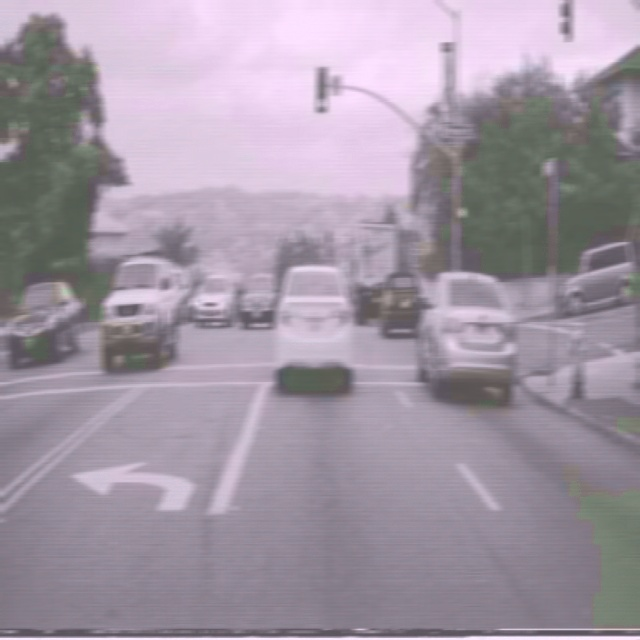speedLimit35: (409, 238, 422, 270)
